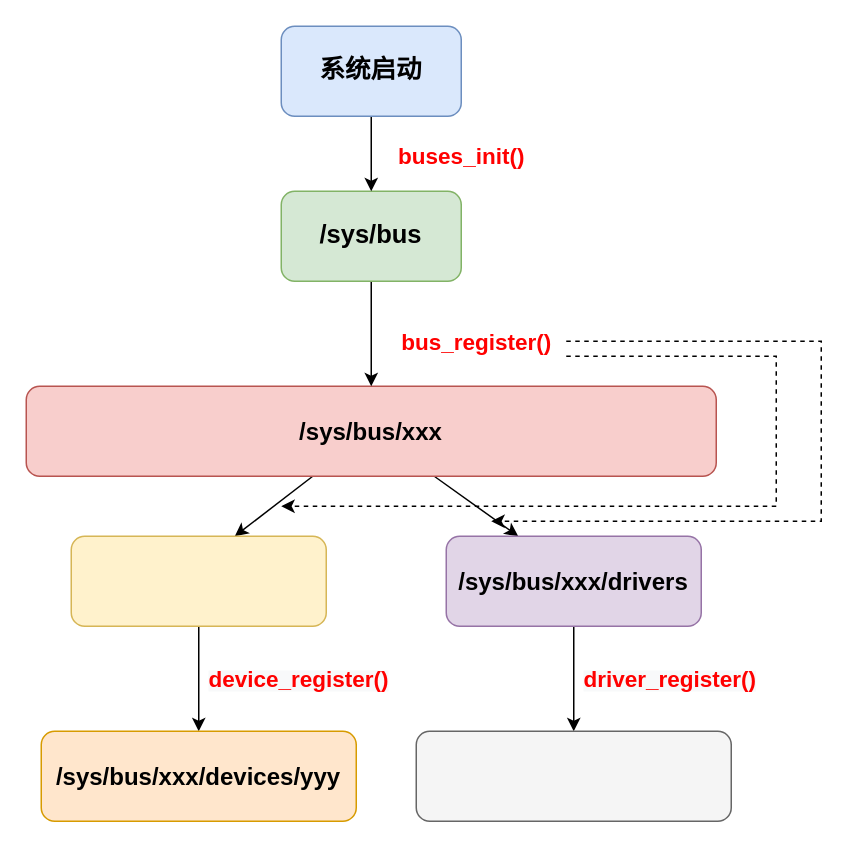
This 860x848 diagram has some shape labels left out. Here are the shapes that lost their labels. From the top down, the centre of each, then its label:
At point (198, 580): "/sys/bus/xxx/ devices".
At point (573, 775): "/sys/bus/xxx/ drivers/zzz".
